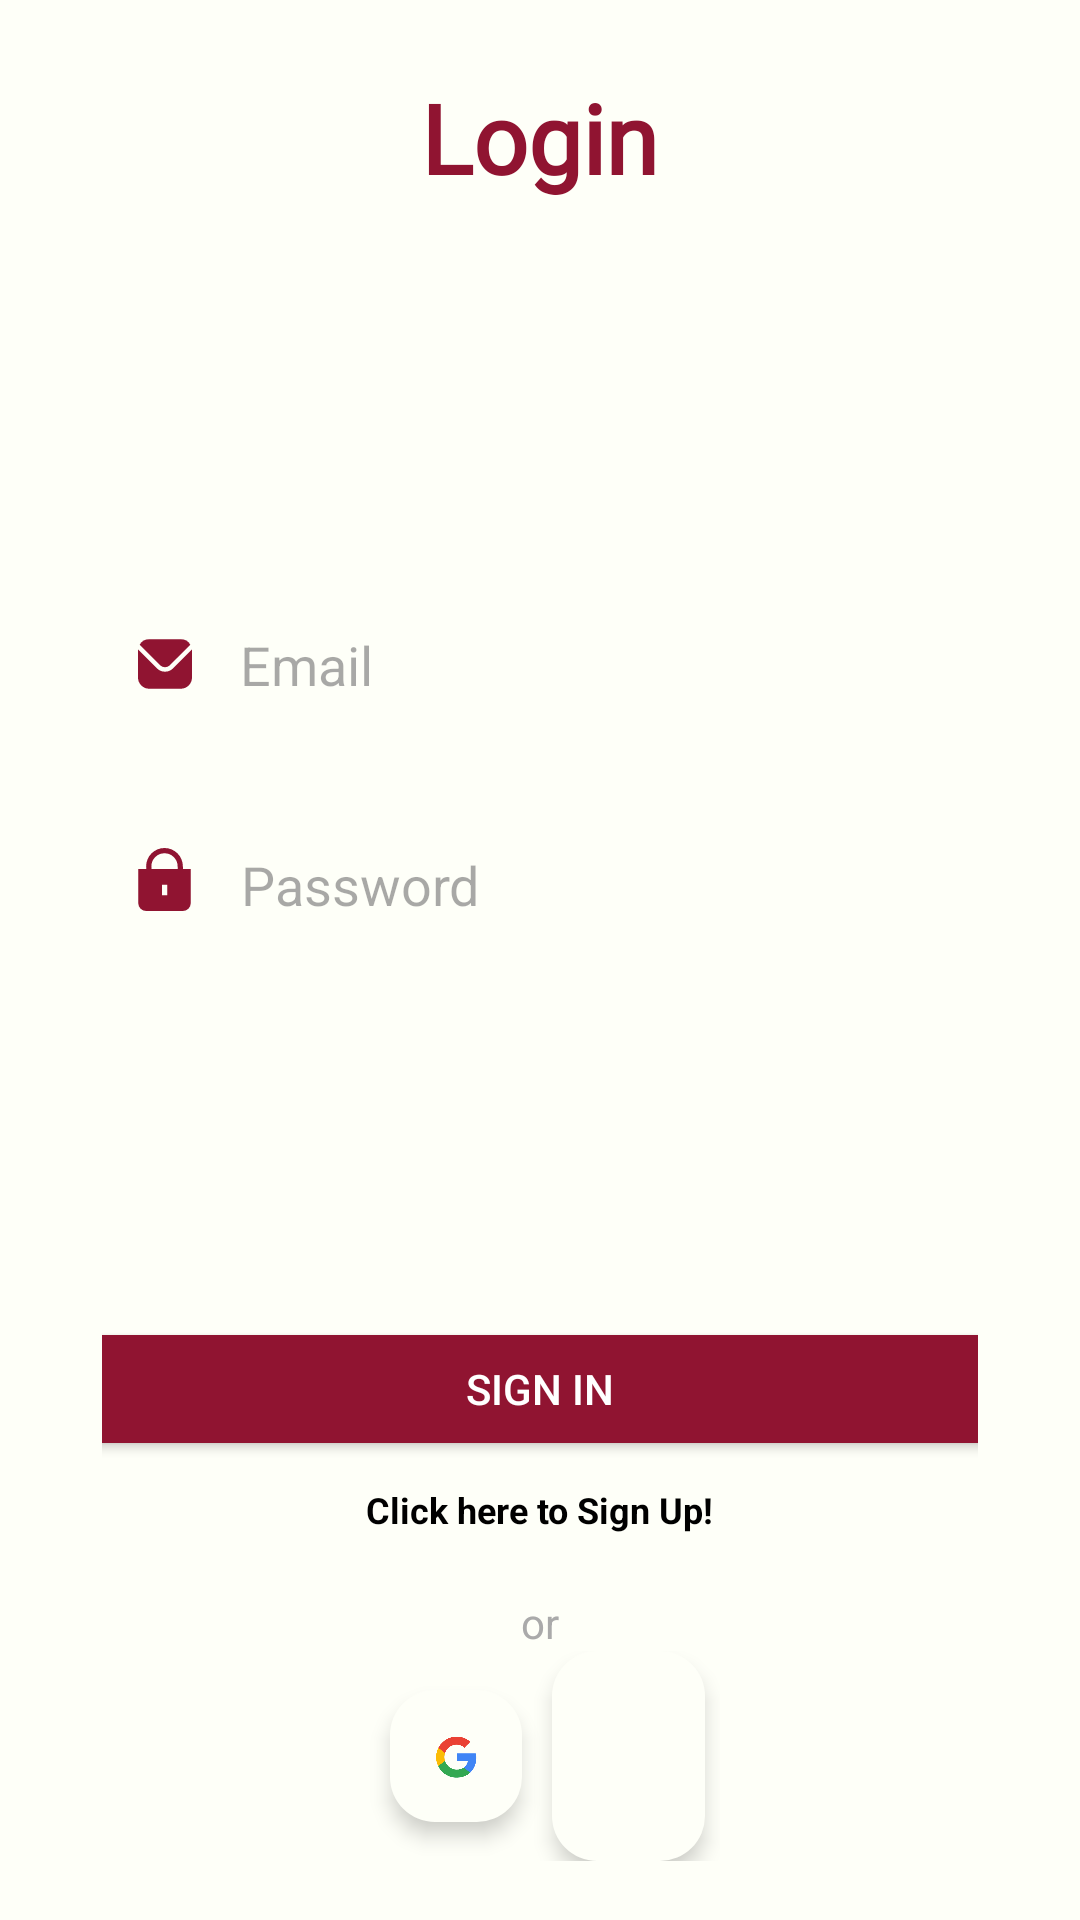

Screen size 1080px×1920px. Icon name, then its center in pixels as (x=x, y=y):
locker: (x=164, y=879)
